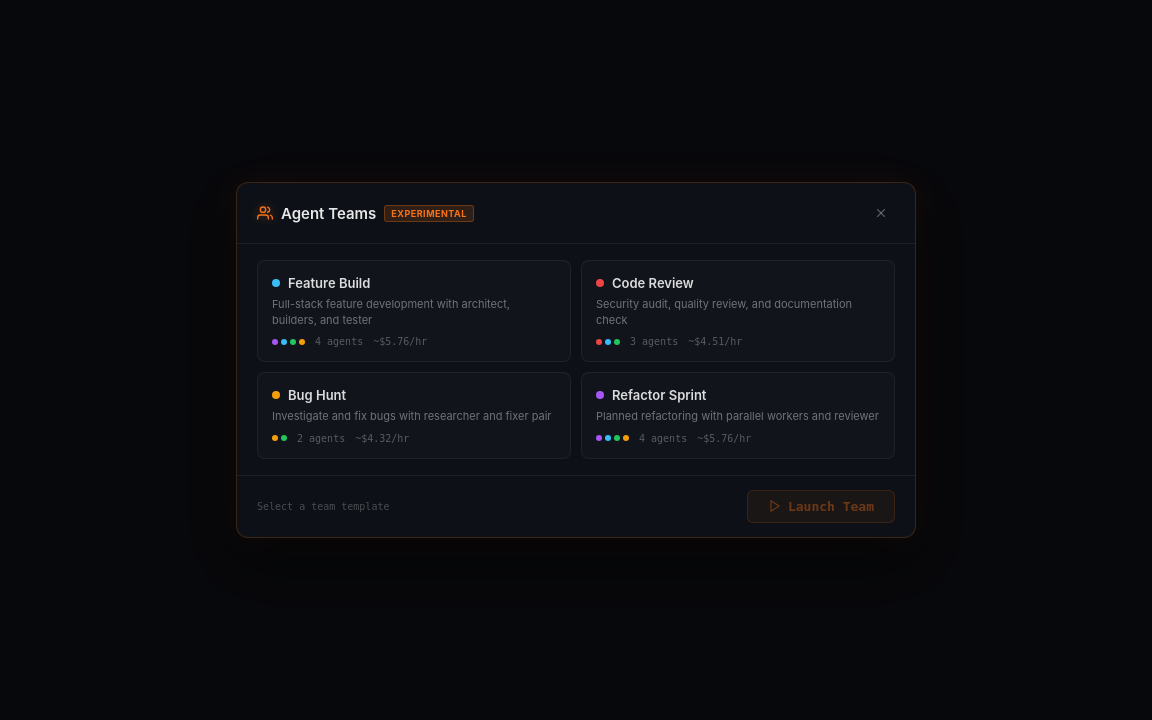
TeamLauncherModal › selecting a template shows the customization panel
Note: Click the first template
Click the text "Feature Build". click: (329, 283)
box: left=288, top=275, right=370, bottom=291
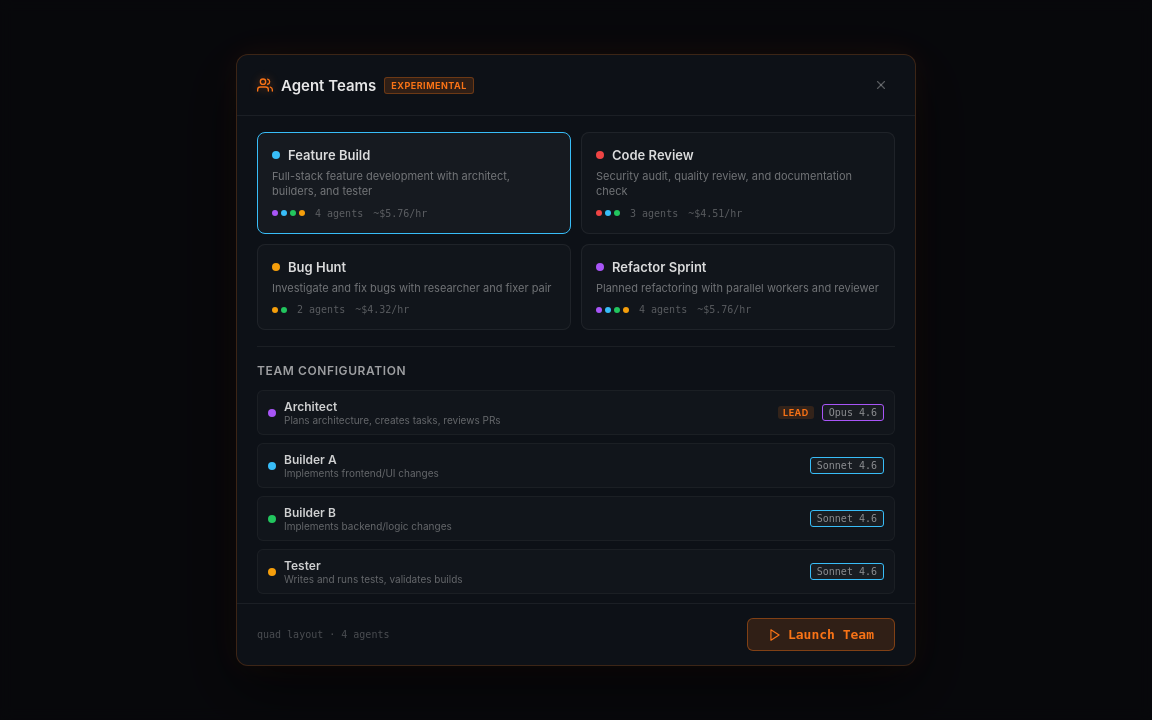
Expected: the text "Team Configuration" is shown, left=257, top=363, right=406, bottom=378
Expected: the text "Architect" is shown, left=284, top=399, right=337, bottom=414
Expected: the text "Builder A" is shown, left=284, top=452, right=337, bottom=467
